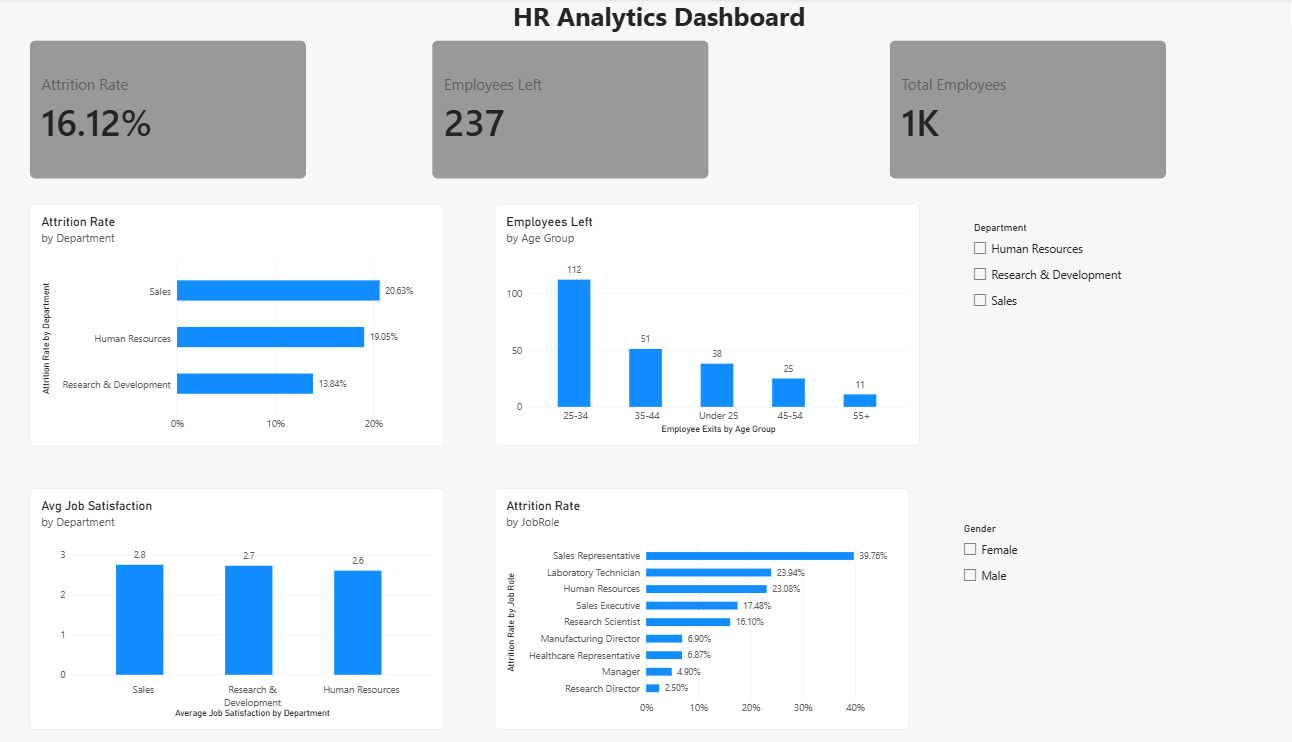

What the dashboard file says about the page in this screenshot:
{"tool":"powerbi","page":{"name":"Page 1","canvas":[1920,1080],"ordinal":0},"visuals":[{"type":"cardVisual","fields":{"Data":["HR.Attrition Rate"]},"box":[49.4,61.7,400,200],"z":0},{"type":"cardVisual","fields":{"Data":["HR.Employees Left"]},"box":[631.9,61.7,400,200],"z":1000},{"type":"cardVisual","fields":{"Data":["HR.Total Employees"]},"box":[1294.7,61.7,400,200],"z":2000},{"type":"clusteredBarChart","fields":{"Category":["HR.Department"],"Y":["HR.Attrition Rate"]},"box":[49.4,298.5,600,350],"z":4000},{"type":"clusteredColumnChart","fields":{"Category":["HR.Age Group"],"Y":["HR.Employees Left"]},"box":[722.5,298.5,615.4,349.9],"z":5000},{"type":"clusteredBarChart","fields":{"Category":["HR.JobRole"],"Y":["HR.Attrition Rate"]},"box":[722.5,710.1,600,350],"z":6000},{"type":"slicer","fields":{"Values":["HR.Department"]},"box":[1407.9,323.2,300,300],"z":7000},{"type":"slicer","fields":{"Values":["HR.Gender"]},"box":[1393.5,759.5,300,300],"z":8000},{"type":"clusteredColumnChart","fields":{"Category":["HR.Department"],"Y":["HR.Avg Job Satisfaction"]},"box":[49.4,710.1,600,350],"z":9000},{"type":"textbox","box":[0,0,1920.1,1080.4],"z":10000}]}

Visuals, with their boxes in screenshot pixels (x1, y1, x2, y2), scaled from the page's 1920x1080 canvas onto the 1292x742 screenshot:
cardVisual - HR.Attrition Rate: (33,42,302,180)
cardVisual - HR.Employees Left: (425,42,694,180)
cardVisual - HR.Total Employees: (871,42,1140,180)
clusteredBarChart - HR.Department x HR.Attrition Rate: (33,205,437,446)
clusteredColumnChart - HR.Age Group x HR.Employees Left: (486,205,900,445)
clusteredBarChart - HR.JobRole x HR.Attrition Rate: (486,488,890,728)
slicer - HR.Department: (947,222,1149,428)
slicer - HR.Gender: (938,522,1140,728)
clusteredColumnChart - HR.Department x HR.Avg Job Satisfaction: (33,488,437,728)
textbox: (0,0,1291,741)
